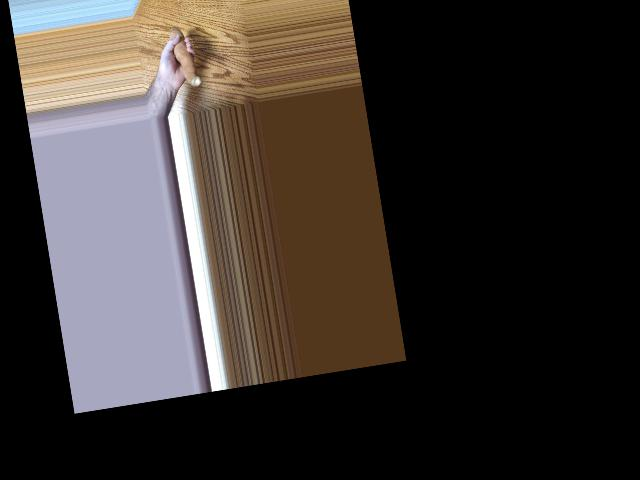sweet_potato: (165, 31, 199, 95)
